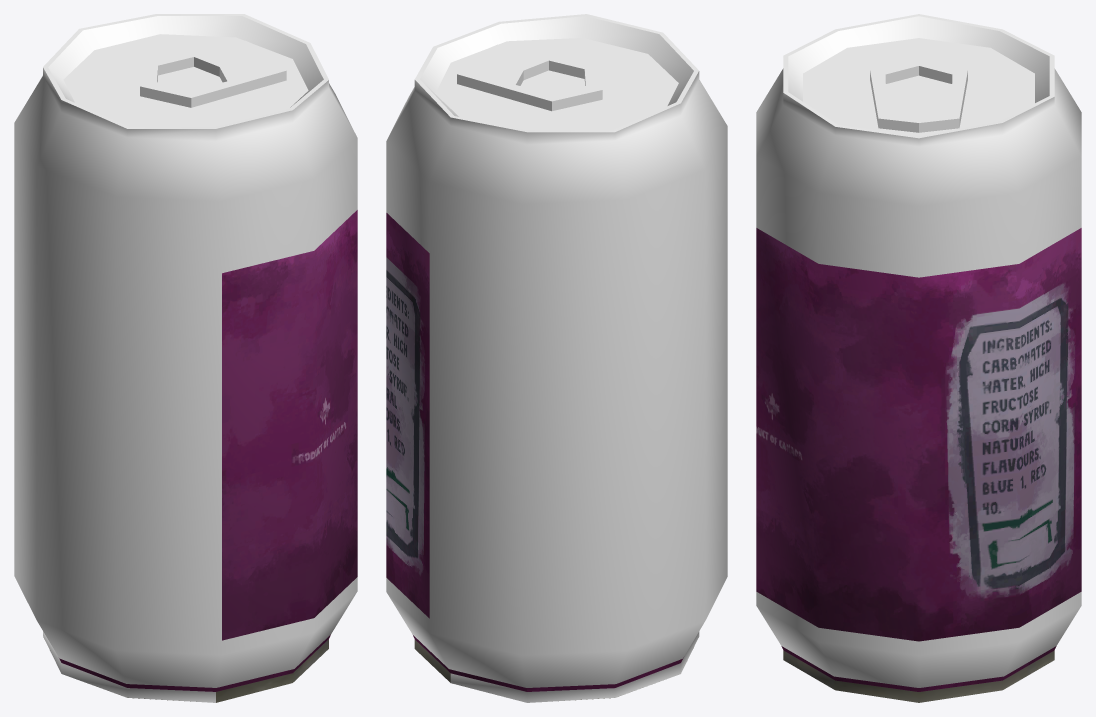
Rendered from GEAR_SodaGrape.glb.
3 renders of one model, left to right at view 1: azimuth 30°, elevation 25°; view 2: azimuth 150°, elevation 25°; view 3: azimuth 270°, elevation 25°, orthographic.
Visible parts, largest first — view 1: FoodSodaCan_Old, FoodSodaCan_LOD0; view 2: FoodSodaCan_Old, FoodSodaCan_LOD0; view 3: FoodSodaCan_LOD0, FoodSodaCan_Old.
Part boxes in pixels (x1,y1,x2,y2): FoodSodaCan_Old: [14, 14, 357, 702]; FoodSodaCan_LOD0: [43, 210, 357, 702]; FoodSodaCan_Old: [386, 14, 727, 702]; FoodSodaCan_LOD0: [386, 213, 698, 701]; FoodSodaCan_LOD0: [756, 228, 1081, 702]; FoodSodaCan_Old: [756, 14, 1081, 687].
Size of what is drawn, in the model's own units: 0.0753 by 0.1382 by 0.0716.
3 materials, 2 textured.
